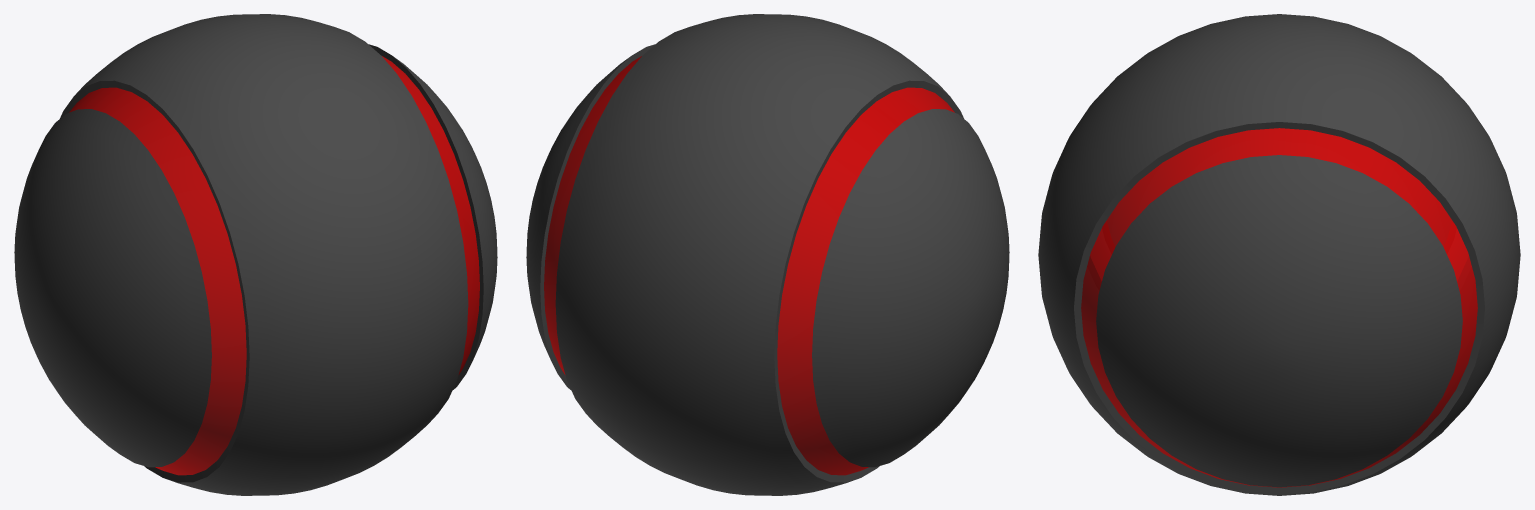
Rendered from red_orb.fbx.
3 views of the same model, side by side, from view 1: azimuth 30°, elevation 25°; view 2: azimuth 150°, elevation 25°; view 3: azimuth 270°, elevation 25° (orthographic).
Parts seen in each view (by area): view 1: red_orb; view 2: red_orb; view 3: red_orb.
Boxes of the visible parts, left/top/right/bottom form: red_orb: left=14, top=14, right=497, bottom=495; red_orb: left=526, top=14, right=1009, bottom=495; red_orb: left=1038, top=14, right=1520, bottom=495.
Bounding box in the file's own units: 2.09 × 2.09 × 2.09.
